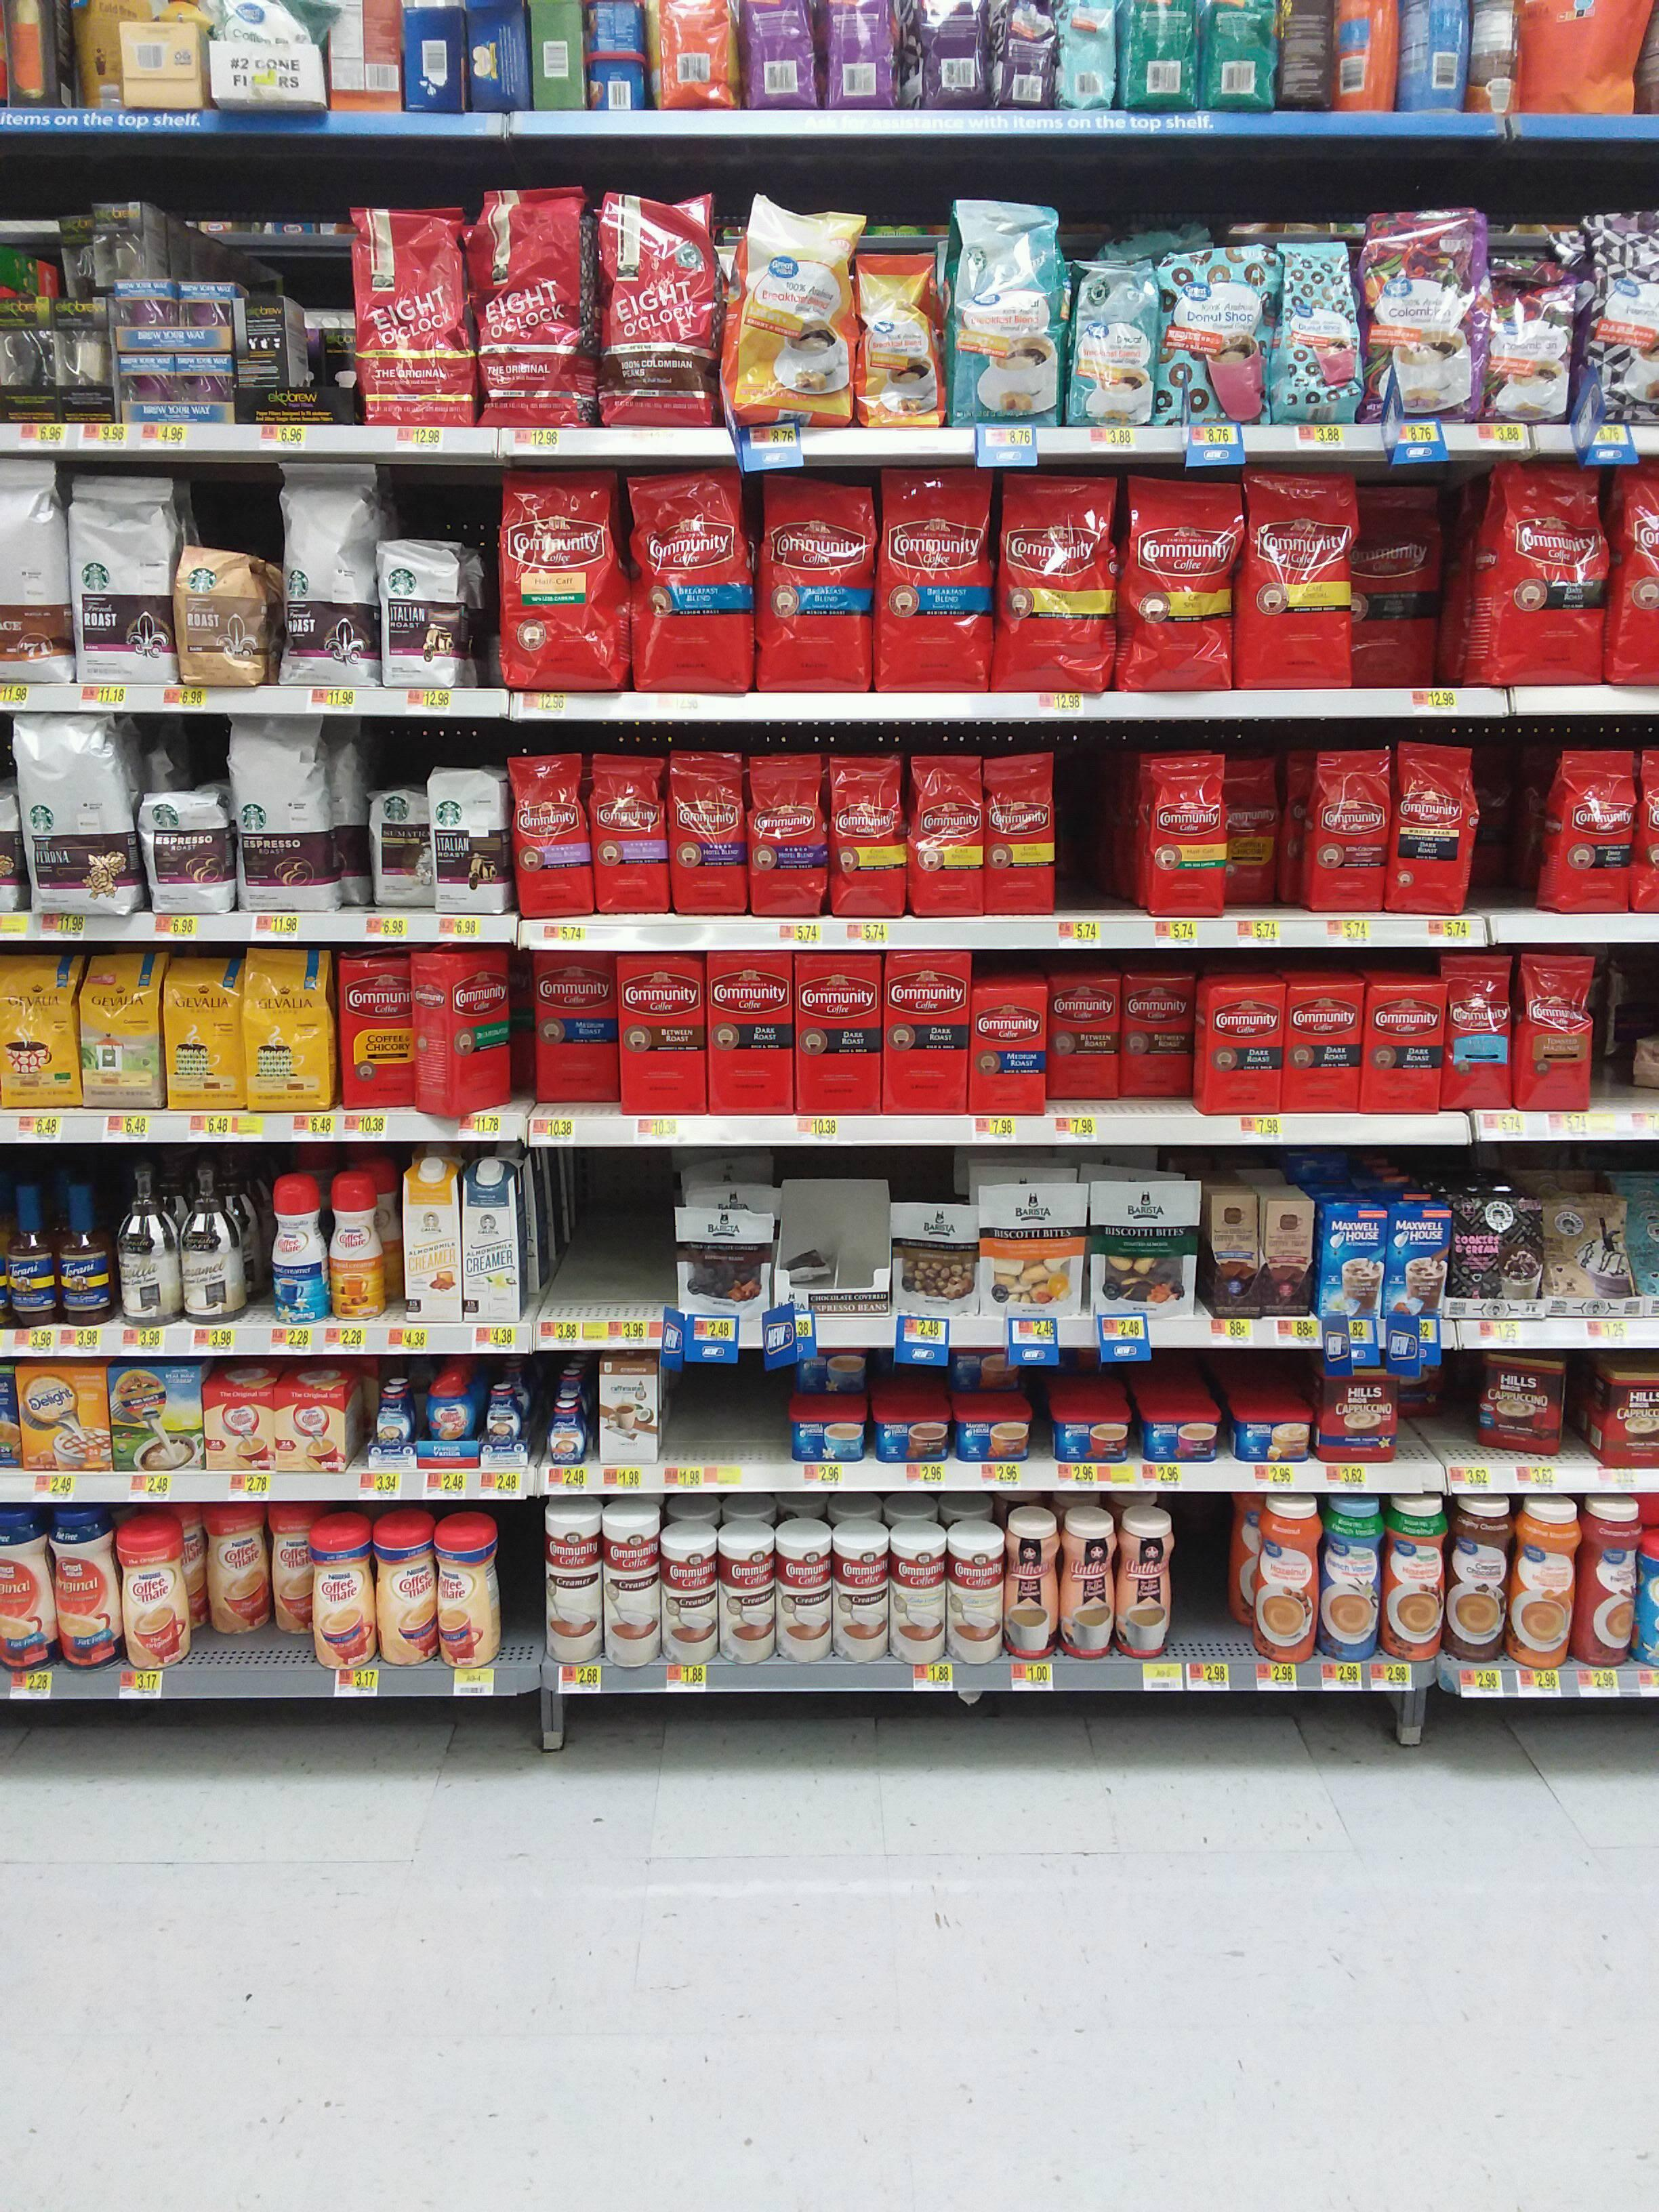empty: (1347, 502, 1452, 685), (552, 1153, 666, 1305), (1473, 740, 1560, 913), (1058, 742, 1143, 913), (179, 1552, 305, 1665), (671, 1355, 784, 1465), (1227, 756, 1305, 913), (1168, 1507, 1246, 1658), (1595, 961, 1659, 1108), (498, 1515, 558, 1670), (1399, 1374, 1478, 1467)
